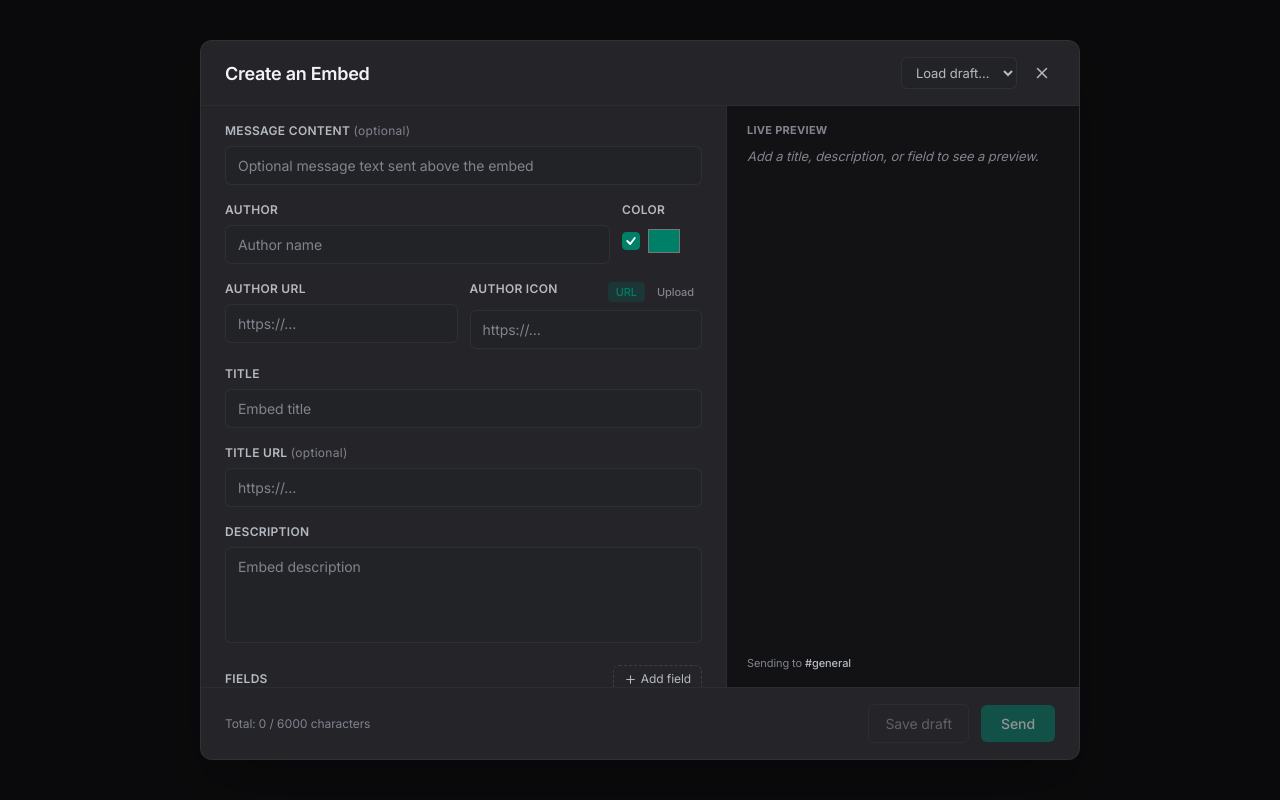
Test case: <EmbedModal> create mode › loads an embed draft into the form
Step 1. Select "Promo" in the dropdown named "Load draft" → (959, 73), box [901,57,1017,89]
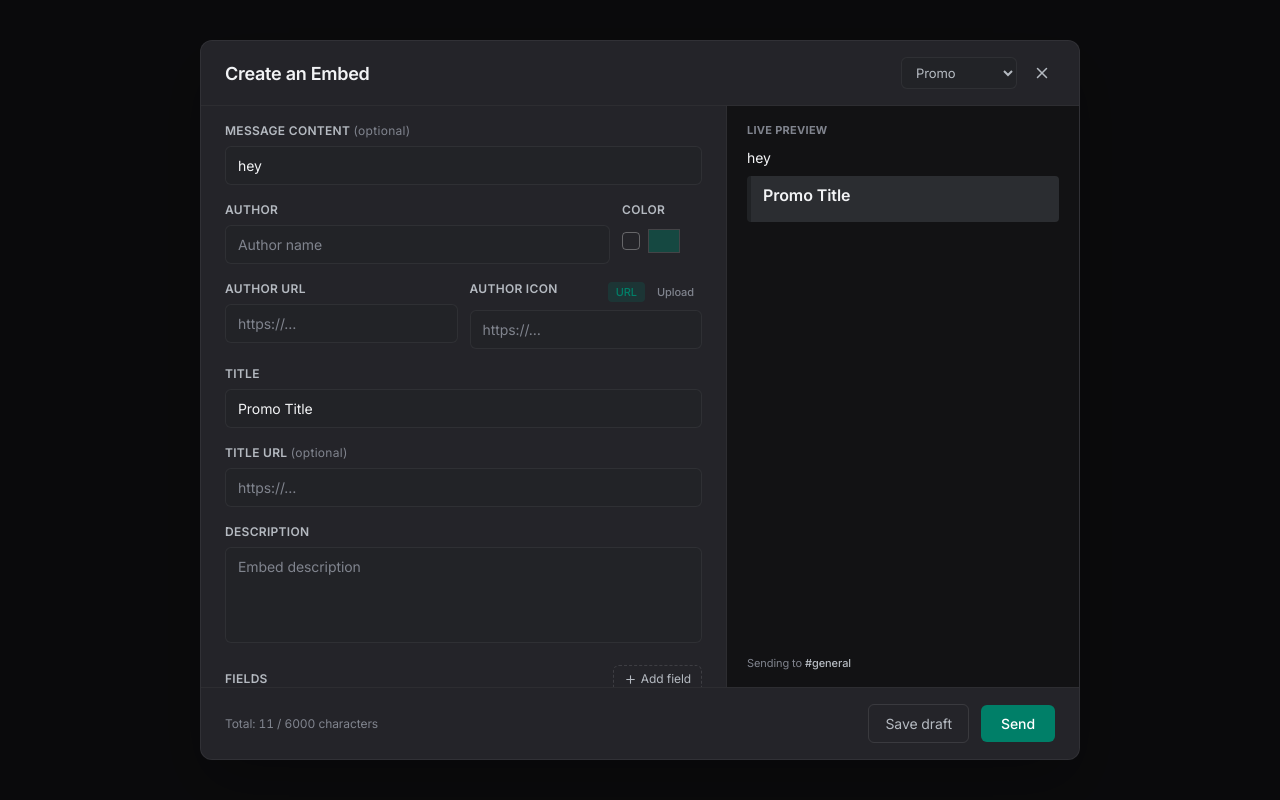
Expected: the 2nd field with placeholder "Embed title" holds "Promo Title", [225,389,702,428]
